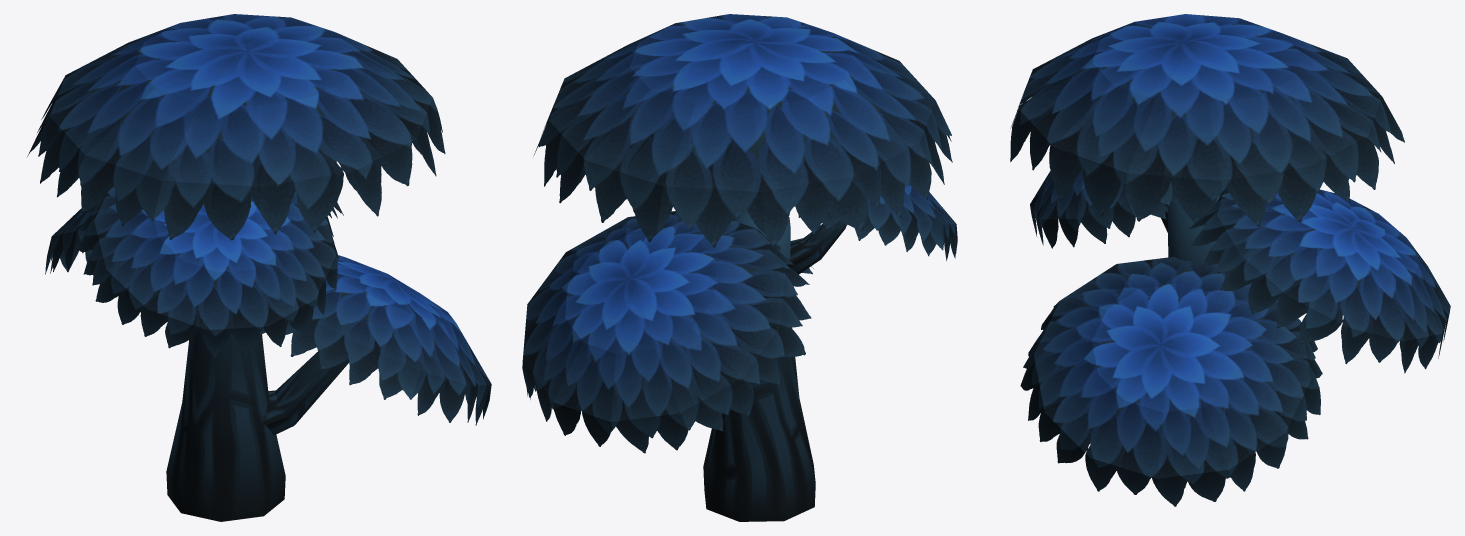
File: Tree2.FBX
The picture shows the model from 3 angles, left to right: view 1: azimuth 30°, elevation 25°; view 2: azimuth 150°, elevation 25°; view 3: azimuth 270°, elevation 25°; orthographic projection. The views are drawn at different scales.
Parts seen in each view (by area): view 1: Tree2; view 2: Tree2; view 3: Tree2.
Part boxes in pixels (left/top/right/bottom): Tree2: left=27, top=14, right=491, bottom=521; Tree2: left=522, top=14, right=957, bottom=521; Tree2: left=1010, top=14, right=1450, bottom=506.
Bounding box in the file's own units: 211 × 221 × 214.
